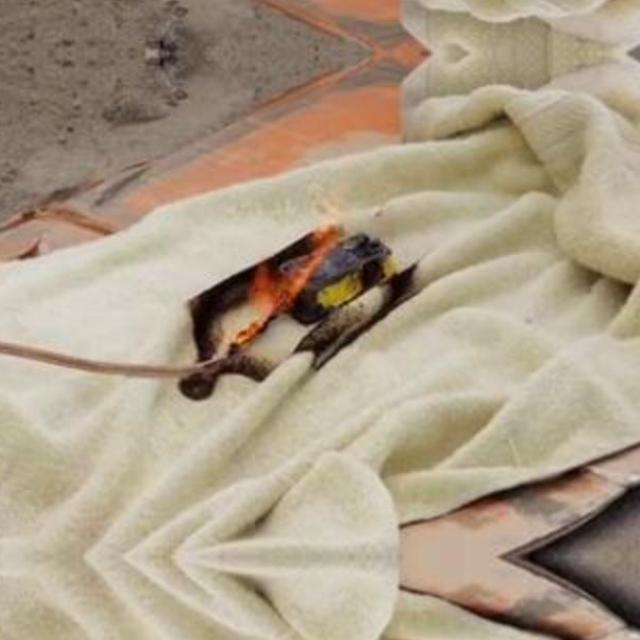smoke: (224, 174, 354, 351)
